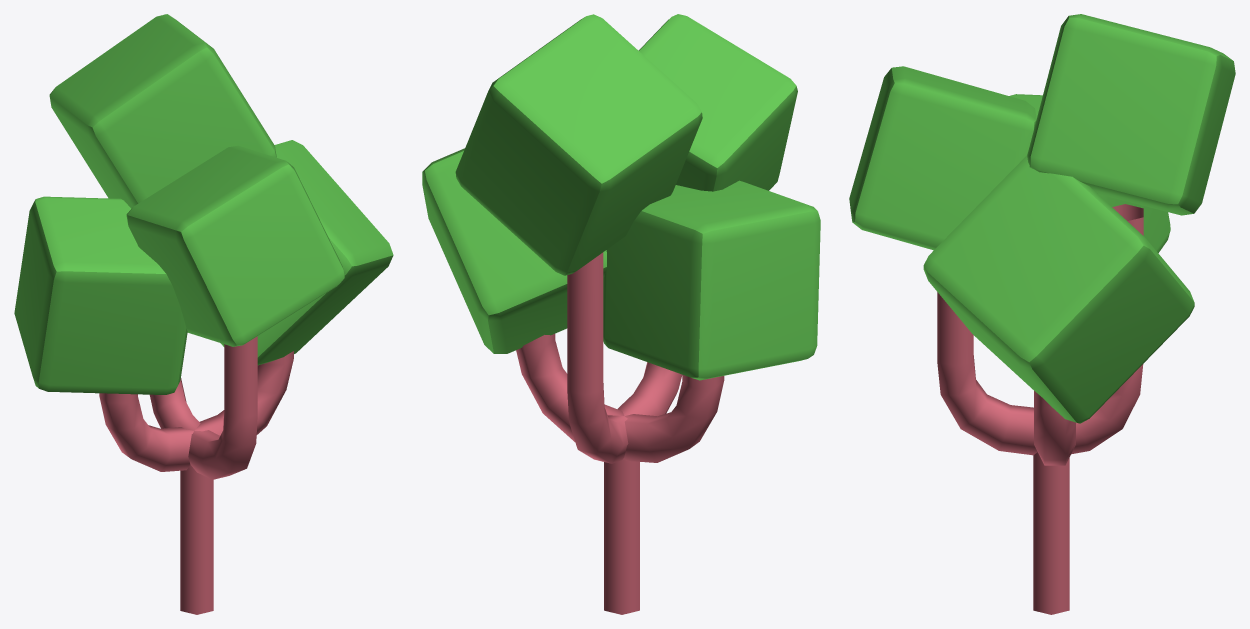
Rendered from Tree_M.fbx.
The picture shows the model from 3 angles, left to right: view 1: azimuth 30°, elevation 25°; view 2: azimuth 150°, elevation 25°; view 3: azimuth 270°, elevation 25°; orthographic projection. The views are drawn at different scales.
Visible parts, largest first — view 1: Tree_M; view 2: Tree_M; view 3: Tree_M.
Boxes of the visible parts, x1,y1,x2,y2 form: Tree_M: [14, 14, 393, 614]; Tree_M: [422, 14, 820, 614]; Tree_M: [849, 14, 1235, 614].
Size of the model in its own units: 1.14 by 1.68 by 0.9819.
Materials: 1 (1 with a texture image).
